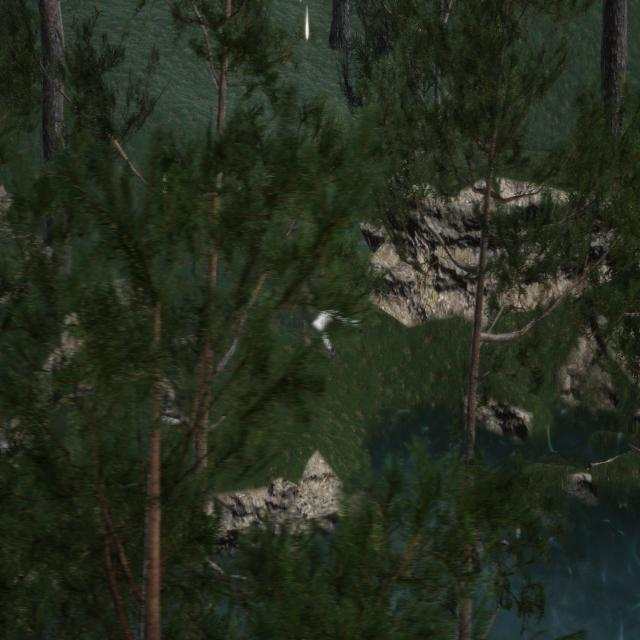Human: (293, 269, 366, 363)
